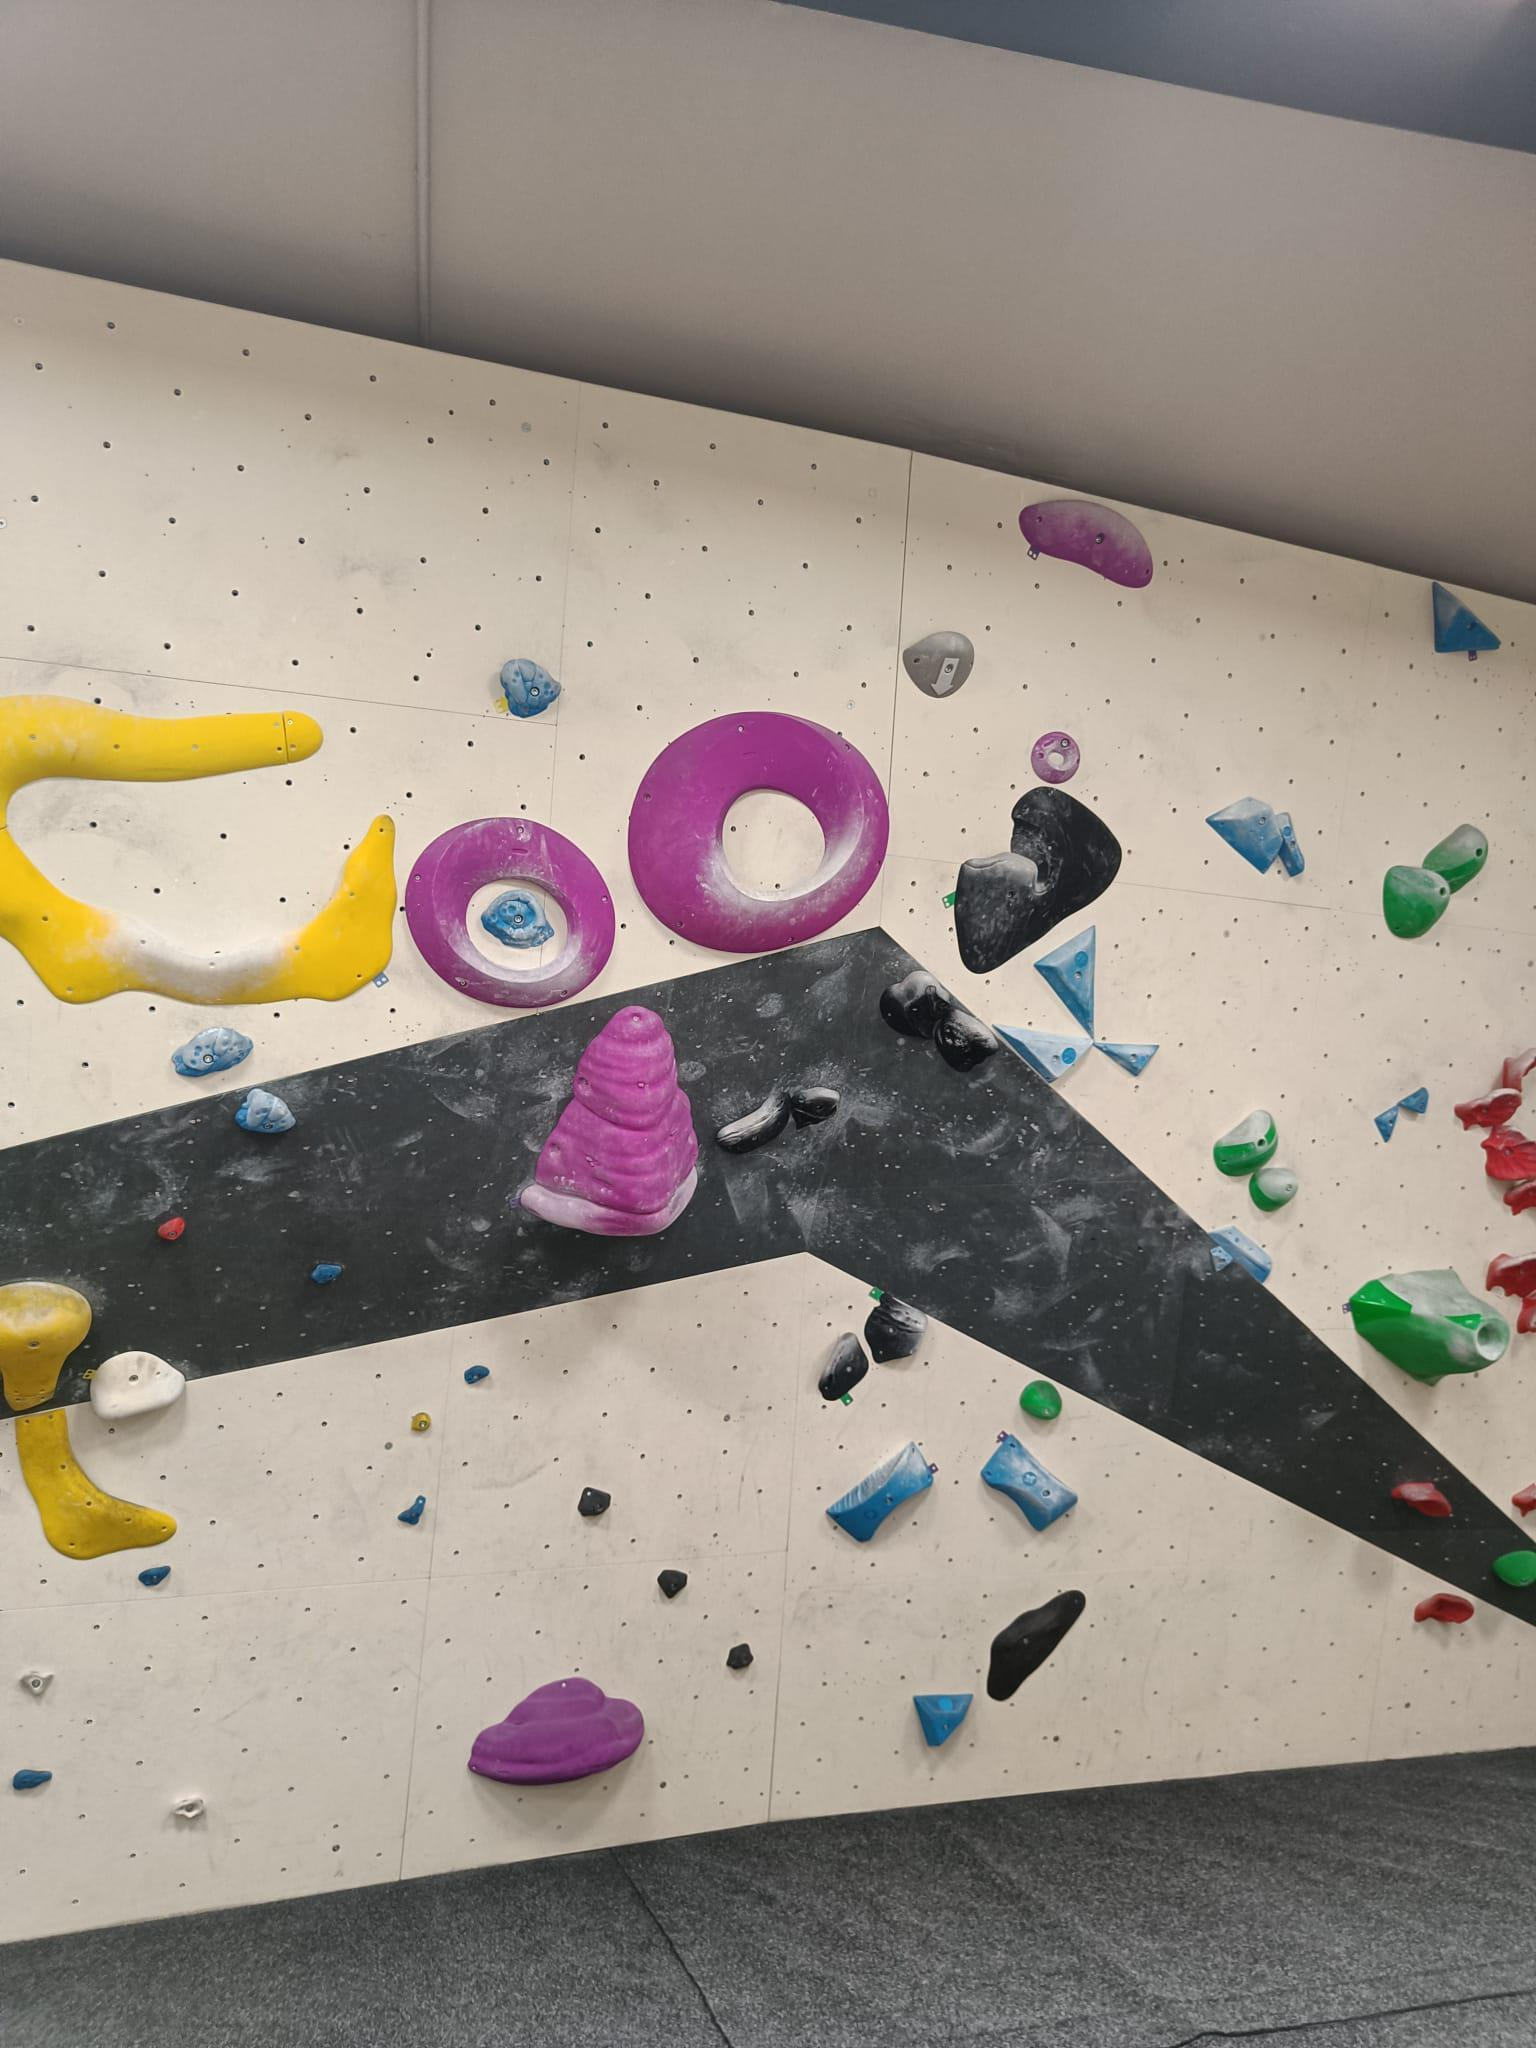hold: (0, 693, 397, 1005), (628, 713, 889, 953), (520, 1006, 699, 1235), (405, 816, 615, 1008), (955, 787, 1121, 974), (15, 1408, 177, 1559), (470, 1677, 645, 1785), (1350, 1271, 1510, 1385), (0, 1282, 92, 1409), (1018, 500, 1152, 587), (986, 1590, 1086, 1701), (826, 1440, 933, 1542), (981, 1435, 1078, 1530), (1034, 924, 1096, 1040), (1454, 1048, 1536, 1130), (89, 1350, 186, 1419), (992, 1024, 1094, 1082), (1207, 797, 1283, 874), (1431, 582, 1502, 653), (879, 969, 950, 1040), (1383, 864, 1450, 939), (715, 1092, 794, 1155), (904, 631, 975, 698), (1423, 824, 1489, 893), (863, 1293, 928, 1364), (1213, 1109, 1279, 1176), (481, 890, 555, 948), (934, 1006, 999, 1072), (173, 1026, 255, 1077), (1486, 1251, 1536, 1334), (1207, 1224, 1271, 1284), (818, 1332, 870, 1401), (500, 660, 561, 718), (913, 1693, 975, 1746), (1481, 1124, 1536, 1182), (236, 1089, 297, 1132), (1031, 732, 1079, 784), (1092, 1043, 1160, 1077), (1391, 1480, 1452, 1517), (1249, 1168, 1299, 1211), (792, 1087, 841, 1130), (1276, 811, 1305, 877), (1413, 1593, 1475, 1622), (1020, 1379, 1062, 1419), (1492, 1550, 1536, 1587), (1504, 1179, 1536, 1216), (18, 1669, 55, 1696), (579, 1487, 611, 1516), (1375, 1105, 1399, 1143), (13, 1769, 53, 1792), (397, 1495, 426, 1526), (657, 1569, 687, 1598), (1396, 1087, 1430, 1113), (1512, 1482, 1536, 1517), (171, 1795, 205, 1817), (310, 1263, 342, 1285), (726, 1643, 753, 1669), (1208, 1245, 1234, 1272), (155, 1218, 186, 1240), (139, 1566, 171, 1585), (465, 1366, 490, 1384), (410, 1413, 432, 1432)
